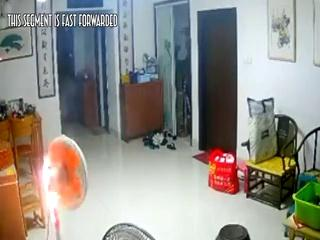Fire: (36, 154, 63, 216)
